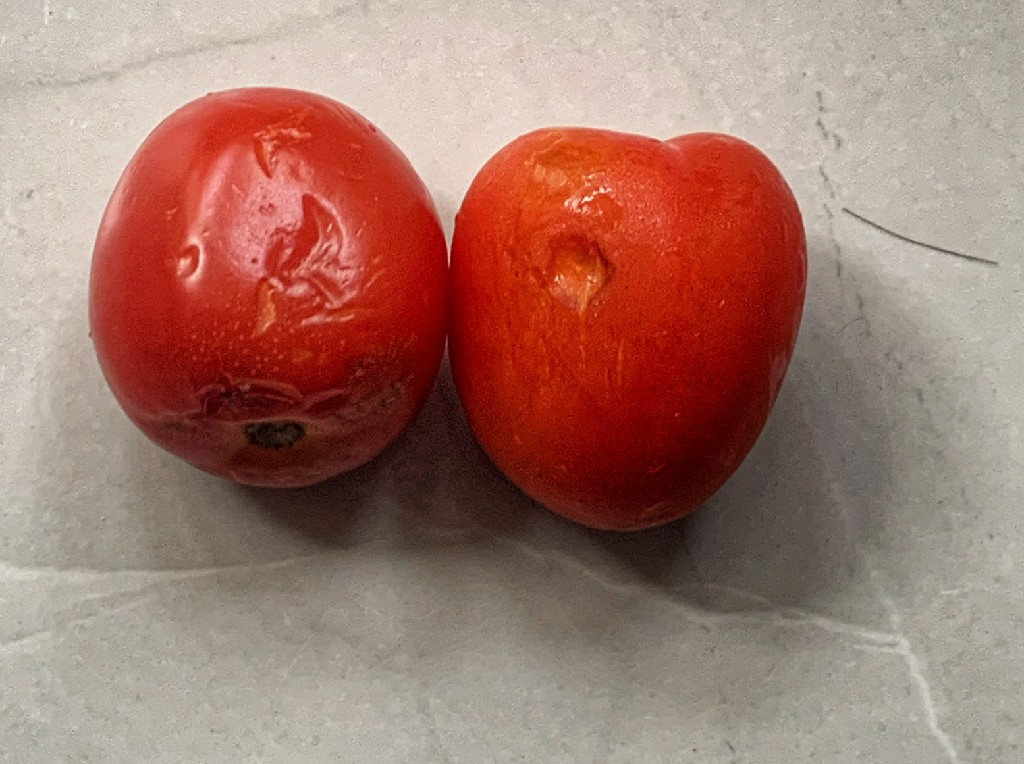NG: (89, 81, 447, 492), (450, 123, 804, 531)
